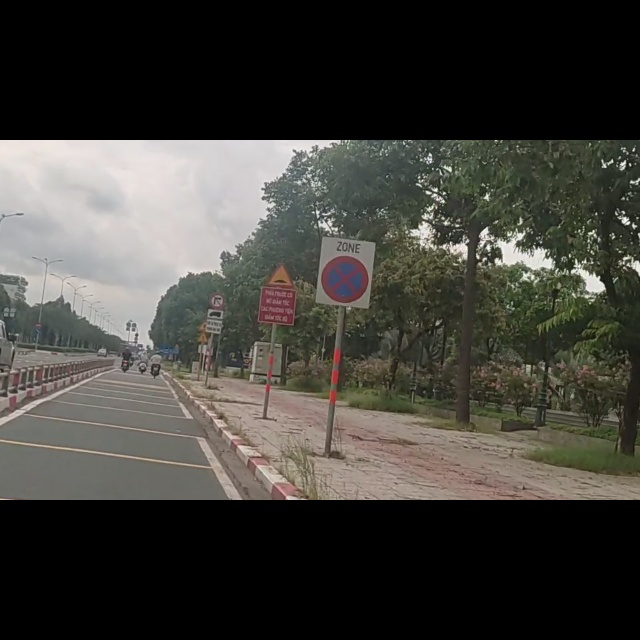bien_cam: (317, 171, 373, 299), (265, 220, 295, 262), (205, 299, 223, 345), (209, 271, 226, 301)
